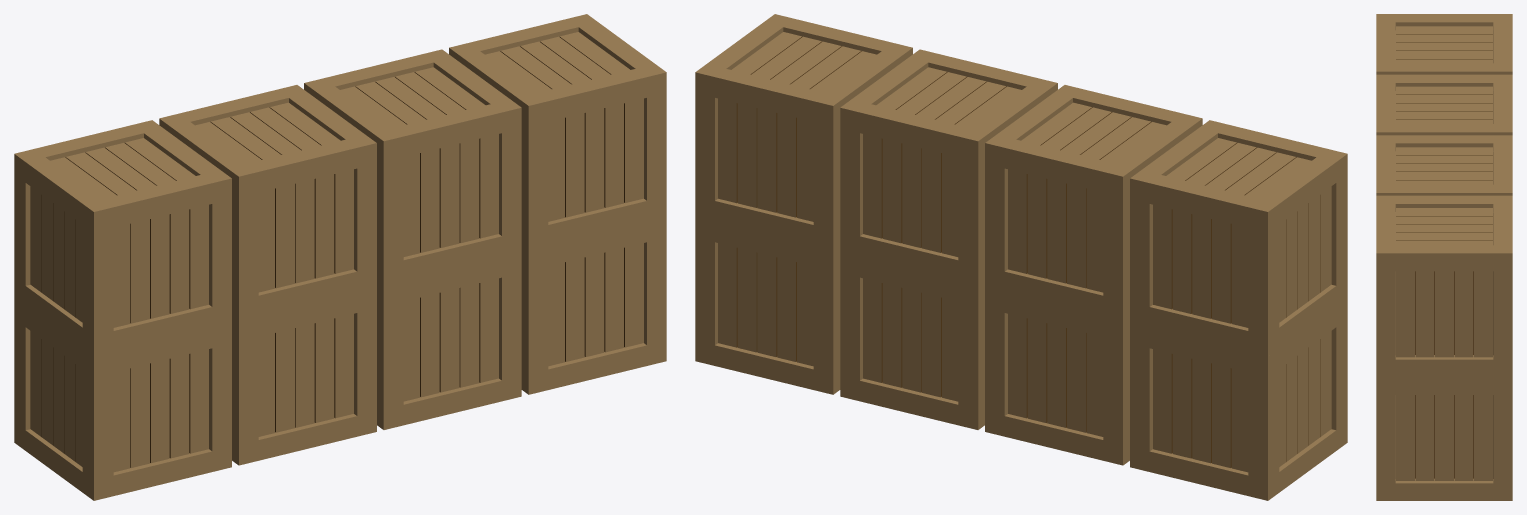
The model's file is Object_robotBase_stackedBox.fbx.
The picture shows the model from 3 angles, left to right: view 1: azimuth 30°, elevation 25°; view 2: azimuth 150°, elevation 25°; view 3: azimuth 270°, elevation 25°; orthographic projection. The views are drawn at different scales.
Parts seen in each view (by area): view 1: cajas apiladas; view 2: cajas apiladas; view 3: cajas apiladas.
Boxes of the visible parts, x1,y1,x2,y2 form: cajas apiladas: (14,14,666,500); cajas apiladas: (695,14,1347,500); cajas apiladas: (1376,14,1512,500).
Bounding box in the file's own units: 4.15 × 2 × 1.
